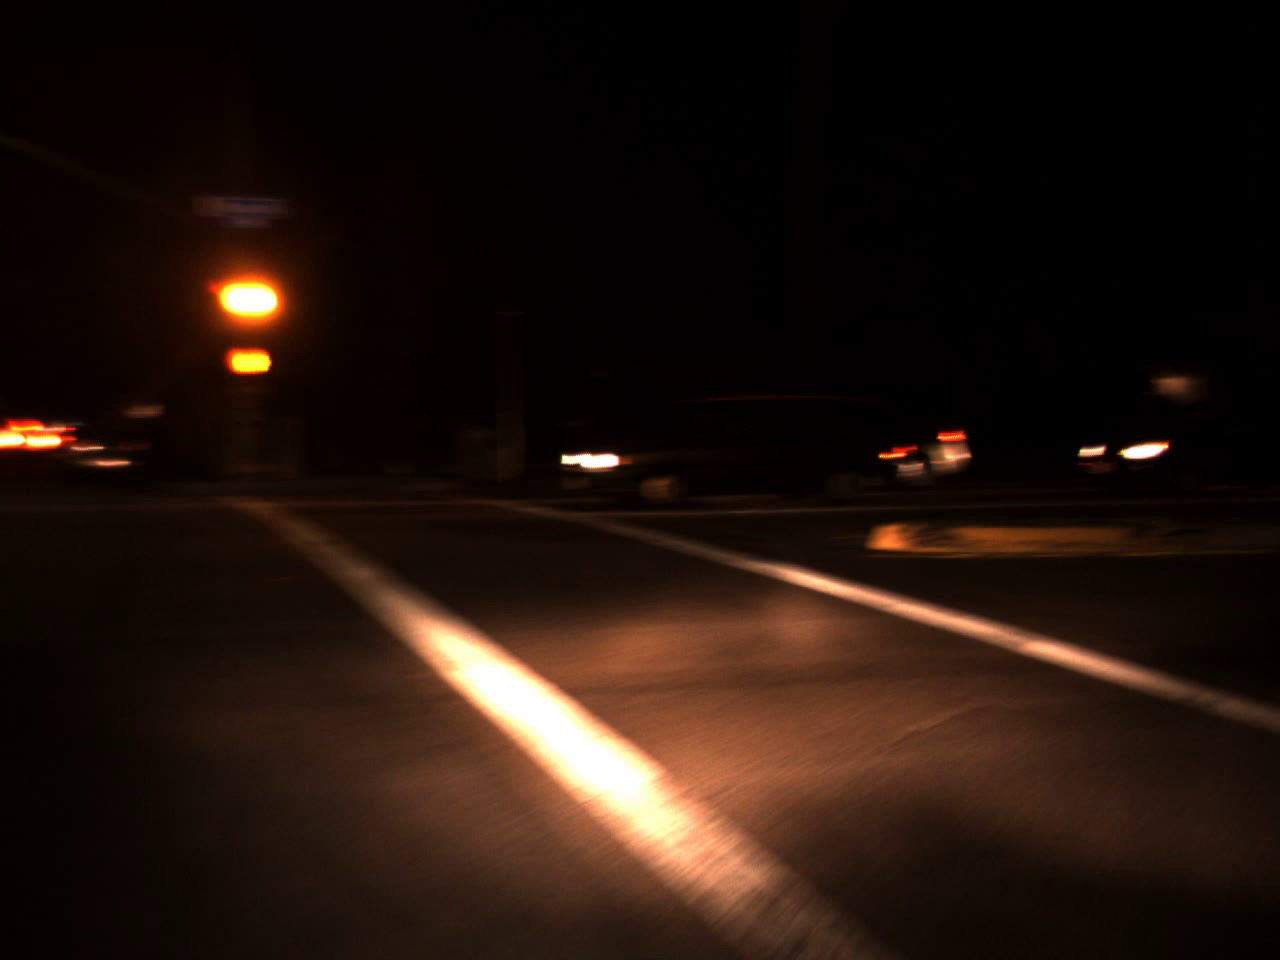warning: (230, 270, 273, 327)
